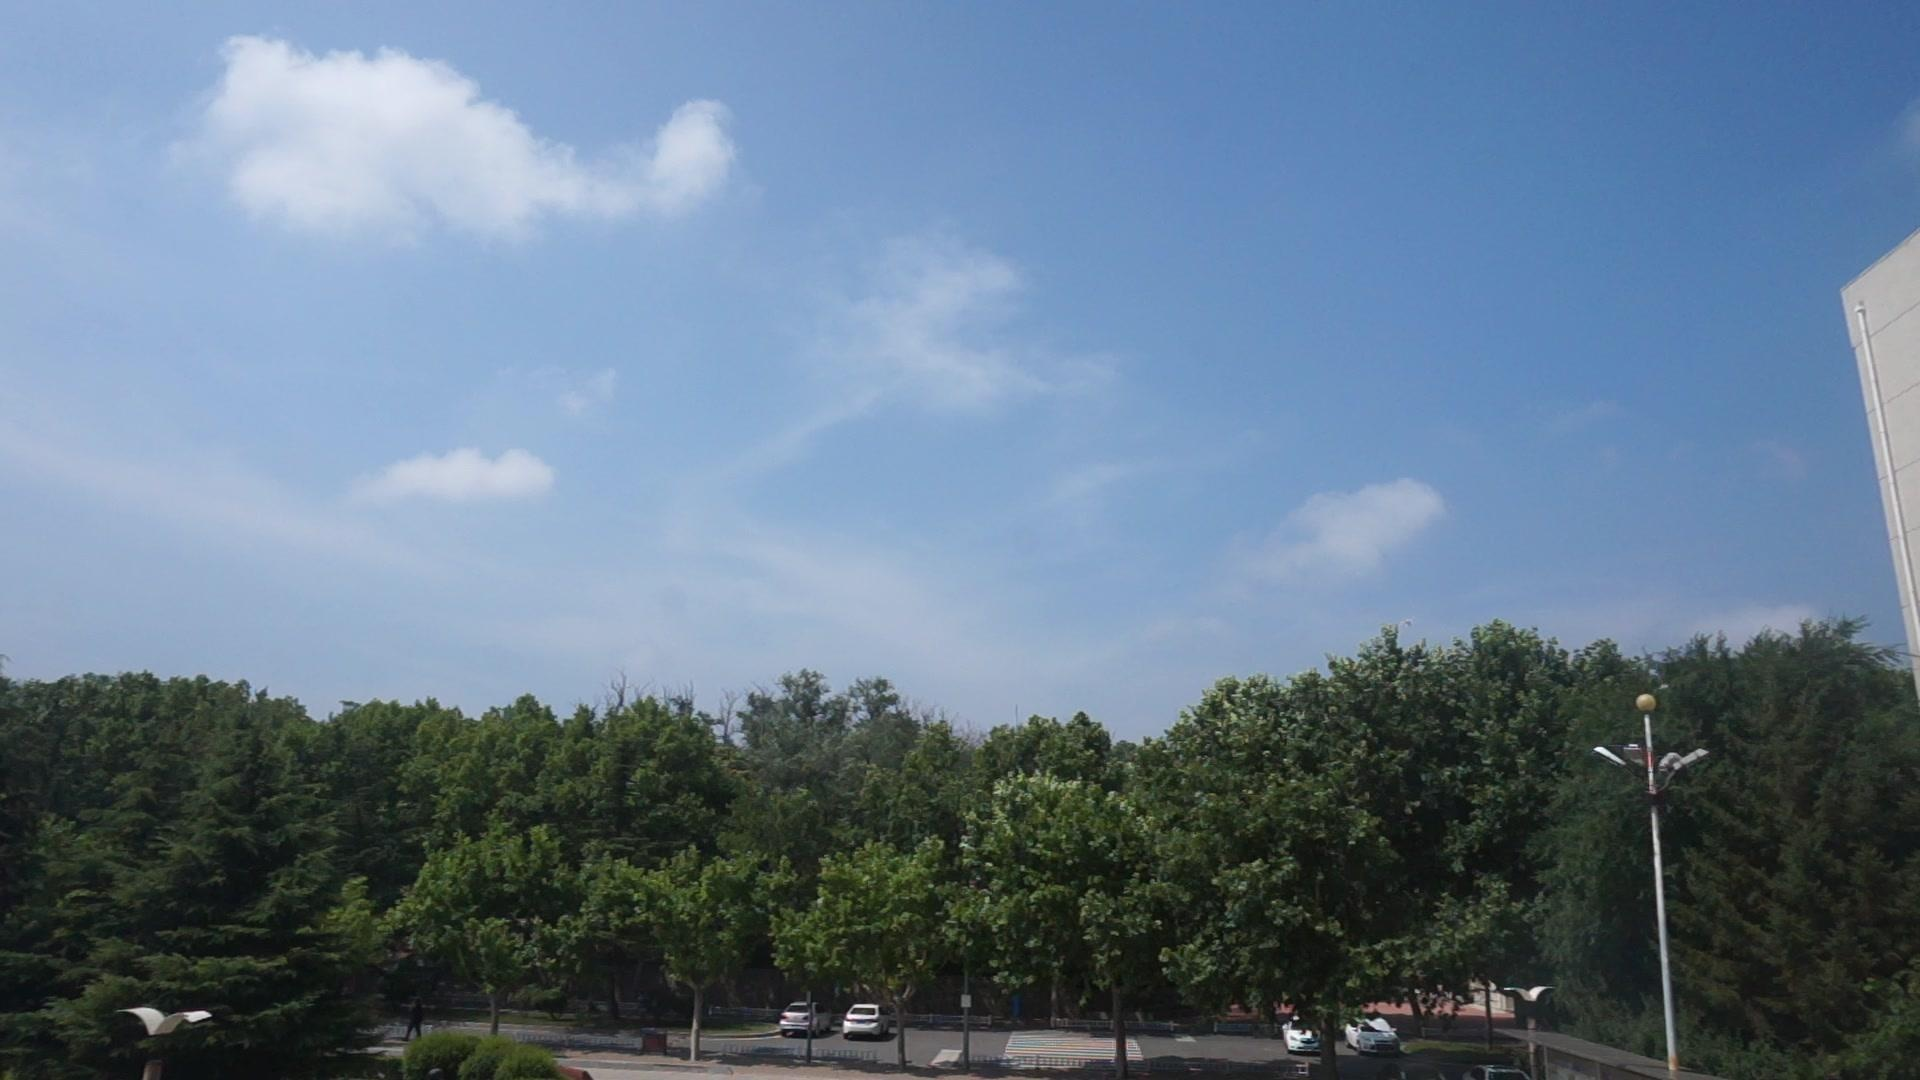UAV: (1400, 618, 1418, 628)
